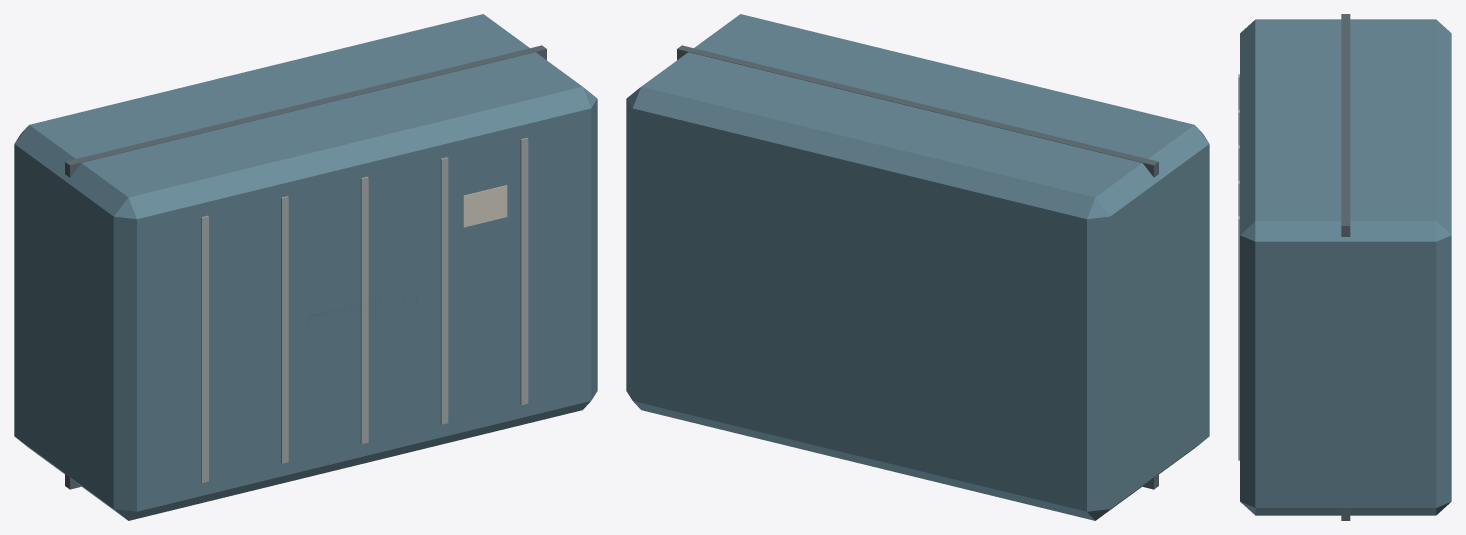
The picture shows the model from 3 angles, left to right: view 1: azimuth 30°, elevation 25°; view 2: azimuth 150°, elevation 25°; view 3: azimuth 270°, elevation 25°; orthographic projection. The views are drawn at different scales.
Visible parts, largest first — view 1: case, zipper_band, rib_0.0, rib_0.11879999999999999, rib_0.2376, rib_-0.1188, rib_-0.2376, id_tag; view 2: case, zipper_band; view 3: case, zipper_band, rib_0.2376.
Boxes of the visible parts, x1=… form: case: x1=14, y1=14, x2=597, y2=520; zipper_band: x1=65, y1=45, x2=546, y2=489; rib_0.0: x1=360, y1=176, x2=368, y2=443; rib_0.11879999999999999: x1=440, y1=157, x2=448, y2=424; rib_0.2376: x1=520, y1=138, x2=528, y2=405; rib_-0.1188: x1=281, y1=196, x2=288, y2=463; rib_-0.2376: x1=201, y1=215, x2=208, y2=482; id_tag: x1=463, y1=185, x2=507, y2=227; case: x1=626, y1=14, x2=1209, y2=520; zipper_band: x1=677, y1=45, x2=1158, y2=489; case: x1=1240, y1=19, x2=1451, y2=515; zipper_band: x1=1341, y1=14, x2=1350, y2=520; rib_0.2376: x1=1238, y1=216, x2=1239, y2=460.
Bounding box in the file's own units: 0.72 × 0.461 × 0.3025.
